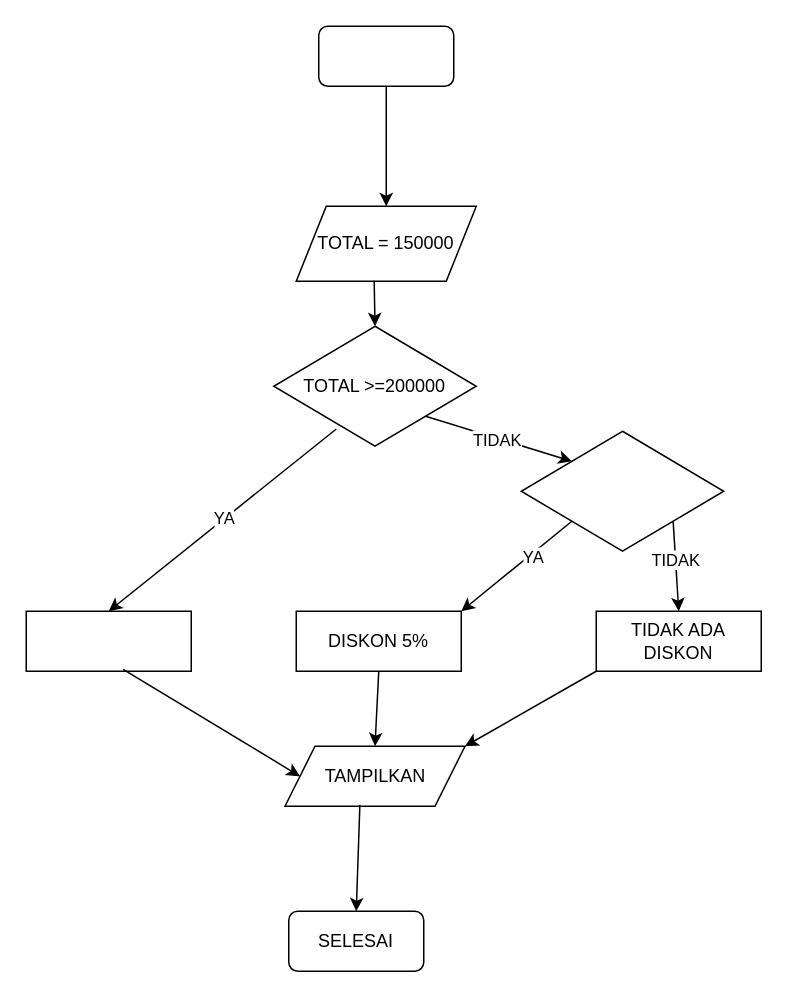
Image size: 788x998. Some labels were removed from this diagram. The shapes that lost their labels are listed below. From the top down, each one's centre as x and y in pixels, then its label:
At (x=385, y=55): "MULAI".
At (x=622, y=490): "TOTAL >=100000".
At (x=108, y=640): "DISKON 10%".
